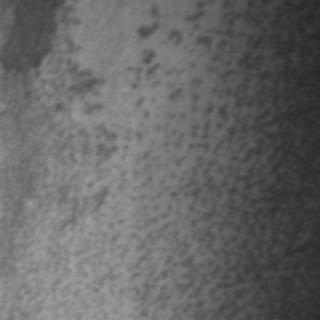patches: (2, 0, 64, 72)
pitted_surface: (97, 2, 316, 314), (22, 7, 160, 306)
